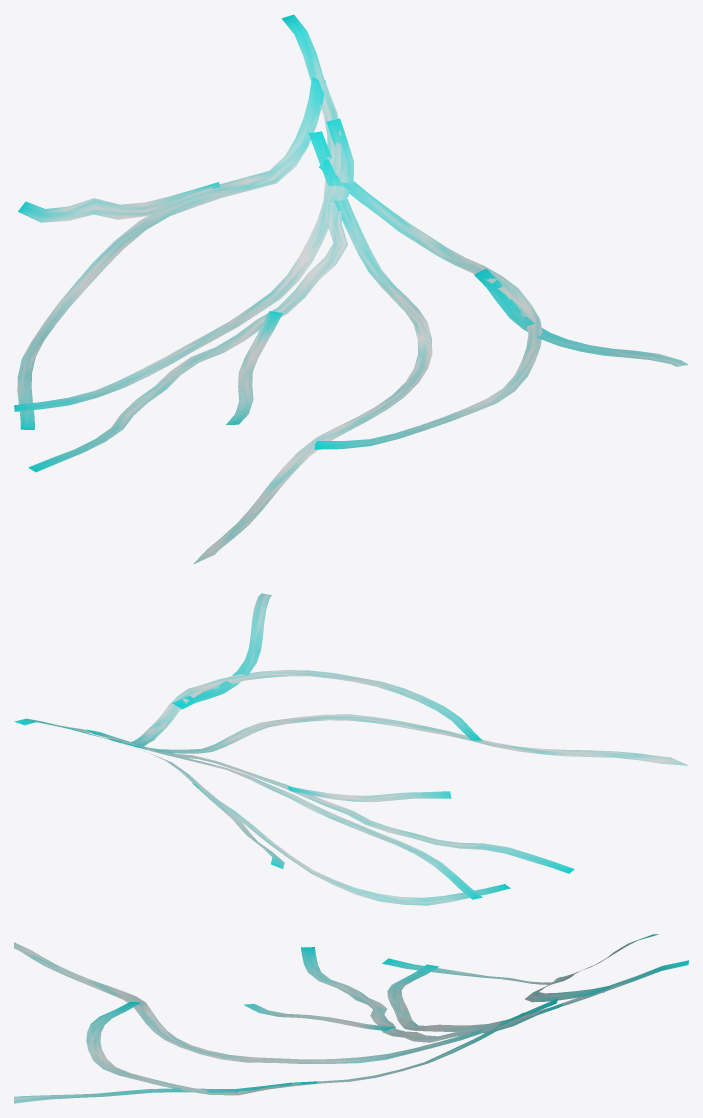
3 views of the same model, one above another, from view 1: azimuth 30°, elevation 25°; view 2: azimuth 150°, elevation 25°; view 3: azimuth 270°, elevation 25° (orthographic). The views are drawn at different scales.
Visible parts, largest first — view 1: SpaceCenter_Long3_GenerateRoad_Sand_TireTracks_Width_Mesh_x1; view 2: SpaceCenter_Long3_GenerateRoad_Sand_TireTracks_Width_Mesh_x1; view 3: SpaceCenter_Long3_GenerateRoad_Sand_TireTracks_Width_Mesh_x1.
Boxes of the visible parts, box(x1,y1,x2,y2) form: SpaceCenter_Long3_GenerateRoad_Sand_TireTracks_Width_Mesh_x1: box(14, 14, 688, 564); SpaceCenter_Long3_GenerateRoad_Sand_TireTracks_Width_Mesh_x1: box(14, 593, 688, 905); SpaceCenter_Long3_GenerateRoad_Sand_TireTracks_Width_Mesh_x1: box(14, 934, 688, 1103).
Bounding box in the file's own units: 1723 × 1484 × 568.
